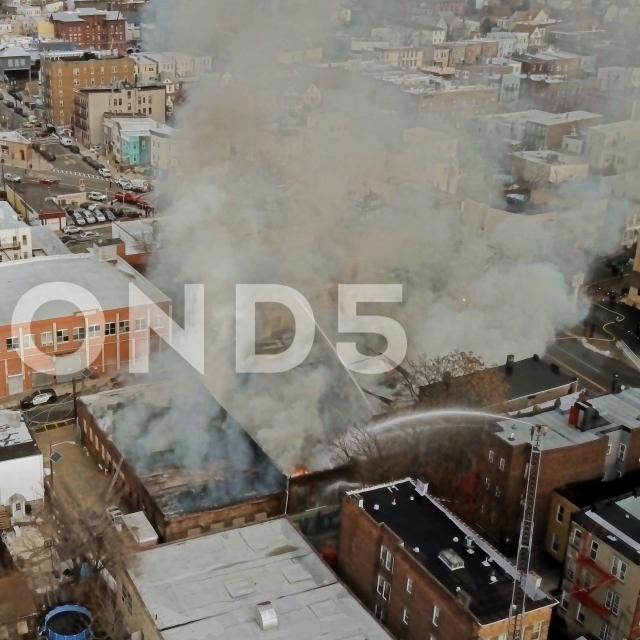Smoke: (116, 6, 610, 480)
